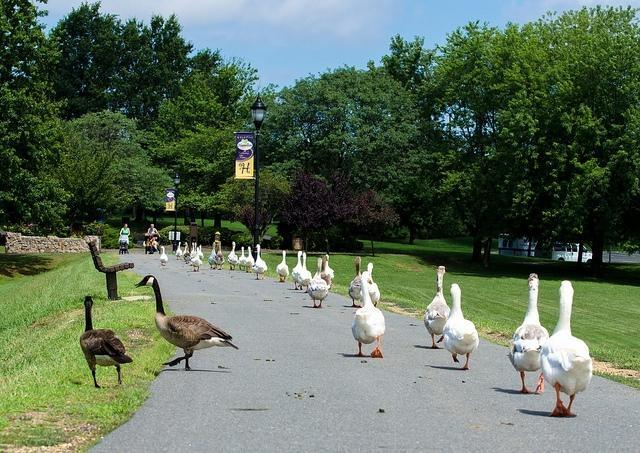car: (551, 244, 592, 262)
motorcycle: (118, 235, 128, 255)
